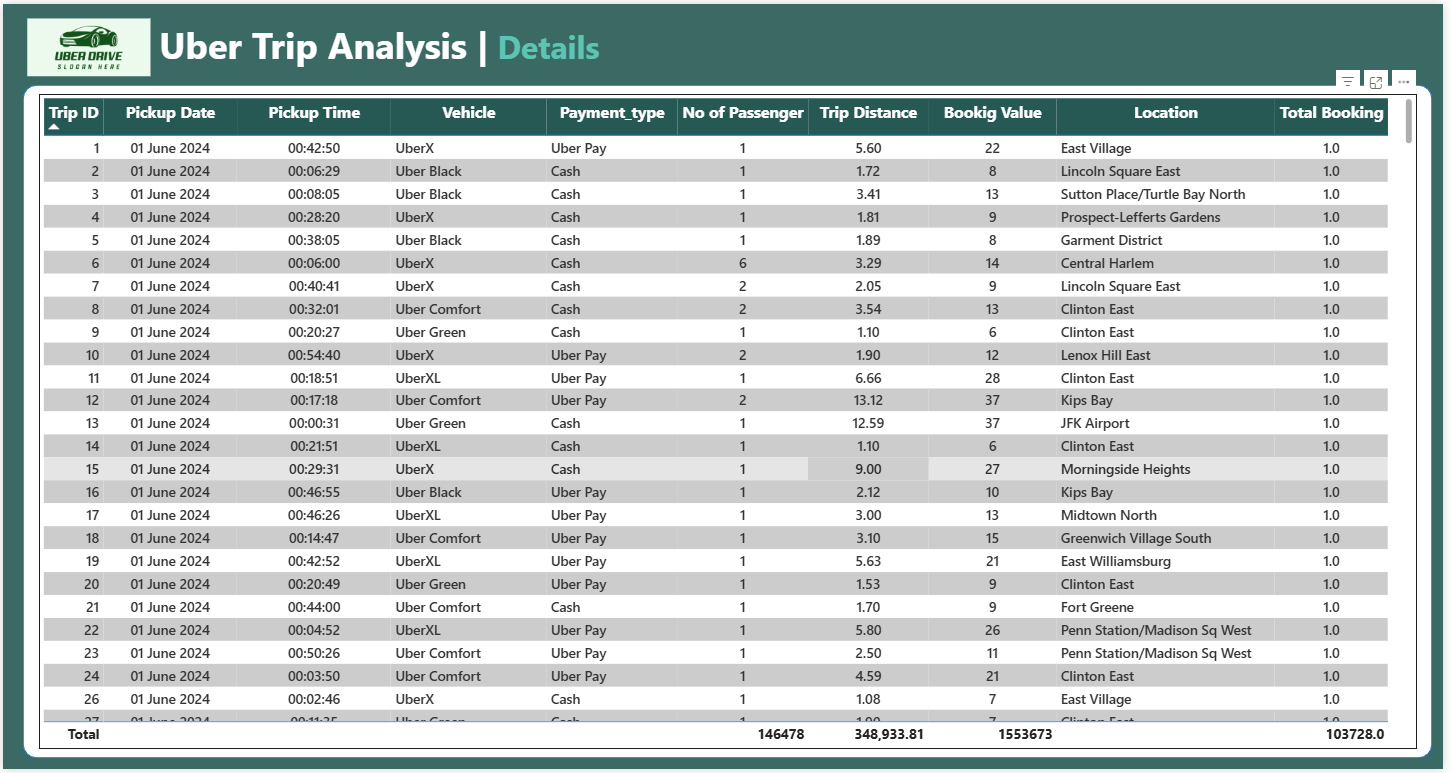

The dashboard page shown, as its layout file describes it:
{"tool":"powerbi","page":{"name":"DETAILS","canvas":[1695,900],"ordinal":2},"visuals":[{"type":"image","box":[23.8,0,155,102.5],"z":0},{"type":"textbox","box":[178.8,13.8,817.5,73.8],"z":1000},{"type":"shape","box":[23.5,95.3,1657.6,791.8],"z":2000},{"type":"tableEx","fields":{"Values":["Trip Details.Trip ID","Trip Details.Pickup Date","Trip Details.Pick Time","Trip Details.Vehicle","Trip Details.Payment_type","Sum(Trip Details.passenger_count)","Trip Details.Total Trip Distance Value","Trip Details.Total Booking Value","Location Table.Location","Trip Details.Total Booking"]},"box":[42.4,105.9,1621.2,770.6],"z":3000}]}

Visuals, with their boxes in screenshot pixels (x1, y1, x2, y2), scaled from the page's 1695x900 canvas onto the 1451x773 screenshot:
image: [left=20, top=0, right=153, bottom=88]
textbox: [left=153, top=12, right=853, bottom=75]
shape: [left=20, top=82, right=1439, bottom=762]
tableEx - Trip Details.Trip ID x Trip Details.Pickup Date: [left=36, top=91, right=1424, bottom=753]
